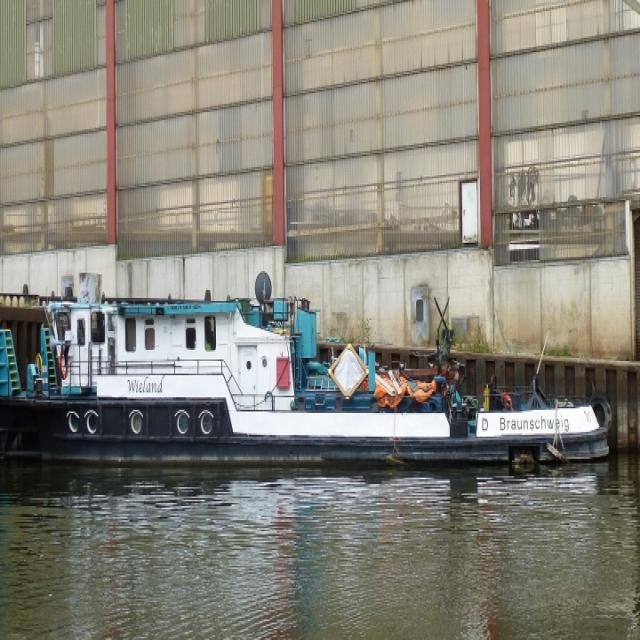tugboat: (1, 277, 613, 488)
